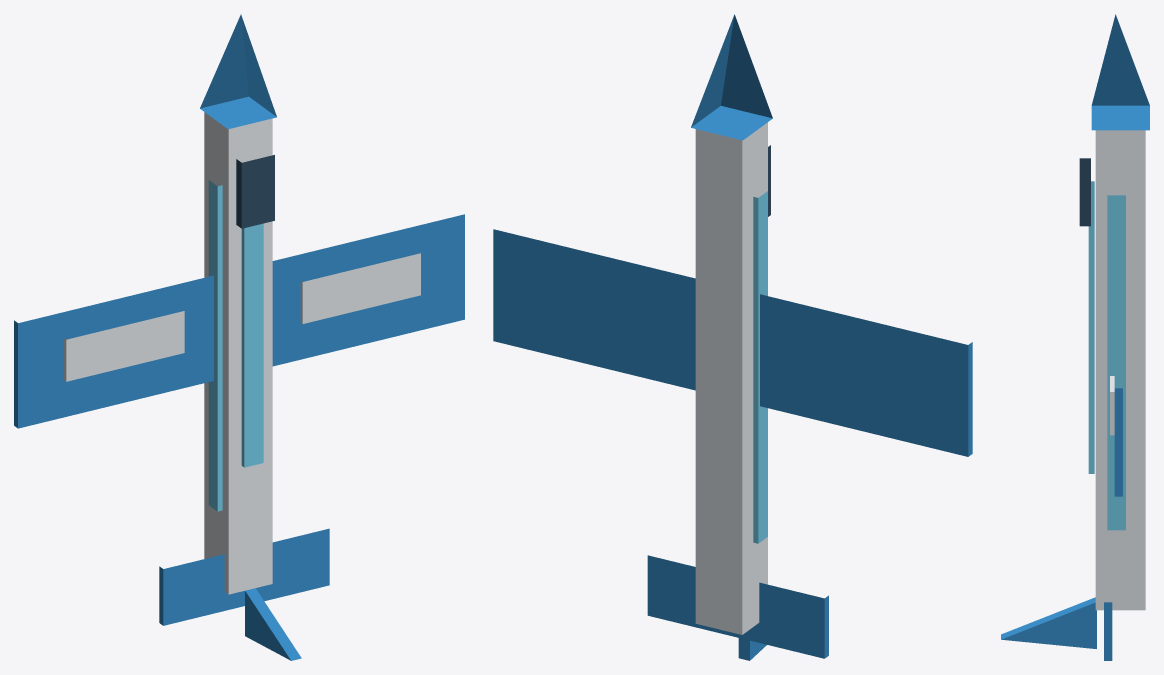
The model's file is airplane.glb.
3 renders of one model, left to right at view 1: azimuth 30°, elevation 25°; view 2: azimuth 150°, elevation 25°; view 3: azimuth 270°, elevation 25°, orthographic. The views are drawn at different scales.
Visible parts, largest first — view 1: GeneratedAircraft; view 2: GeneratedAircraft; view 3: GeneratedAircraft.
Part boxes in pixels (x1,y1,x2,y2): GeneratedAircraft: (14,14,464,660); GeneratedAircraft: (493,14,972,660); GeneratedAircraft: (1001,14,1149,660).
Size of the model in its own units: 5.1 by 6.7 by 1.43.
